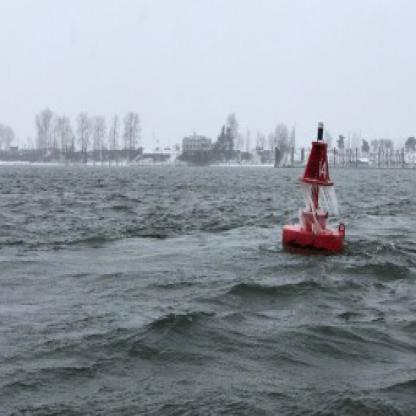buoy: (281, 111, 349, 258)
